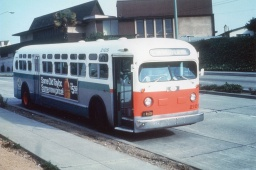bus: (11, 40, 208, 135)
